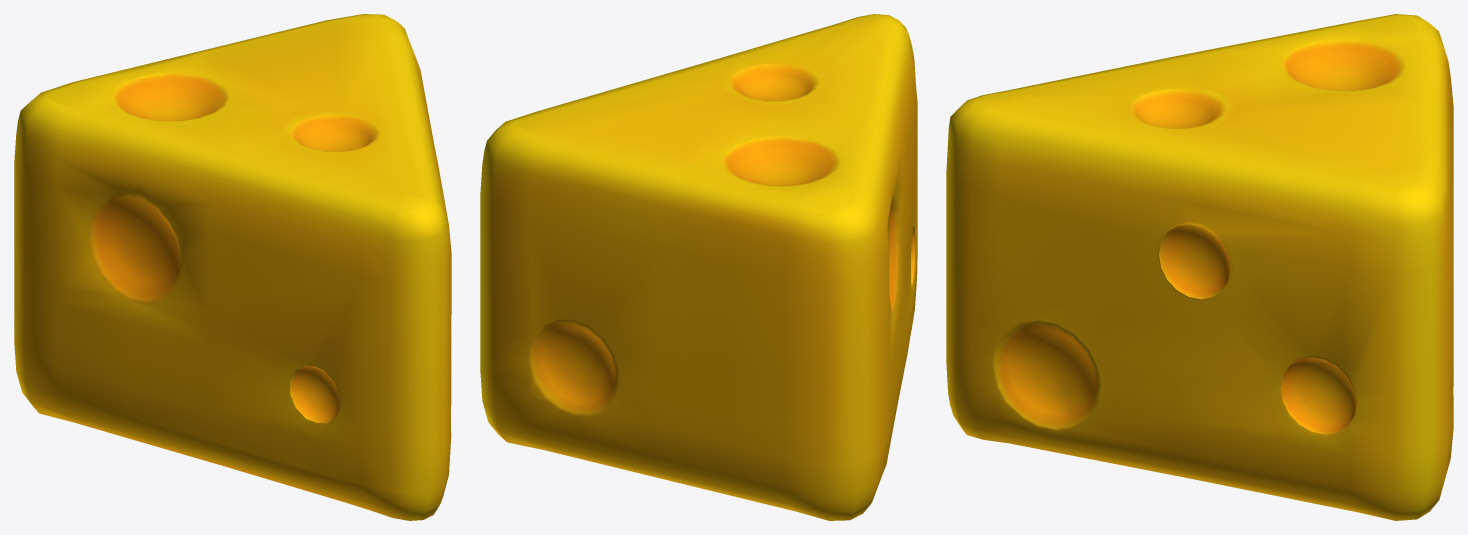
The model's file is NaiLao.FBX.
The picture shows the model from 3 angles, left to right: view 1: azimuth 30°, elevation 25°; view 2: azimuth 150°, elevation 25°; view 3: azimuth 270°, elevation 25°; orthographic projection. The views are drawn at different scales.
Visible parts, largest first — view 1: NaiLao; view 2: NaiLao; view 3: NaiLao.
Boxes of the visible parts, x1,y1,x2,y2 form: NaiLao: [14, 14, 451, 520]; NaiLao: [480, 14, 917, 520]; NaiLao: [946, 14, 1453, 520].
Bounding box in the file's own units: 804 × 619 × 859.
1 material, 1 textured.
